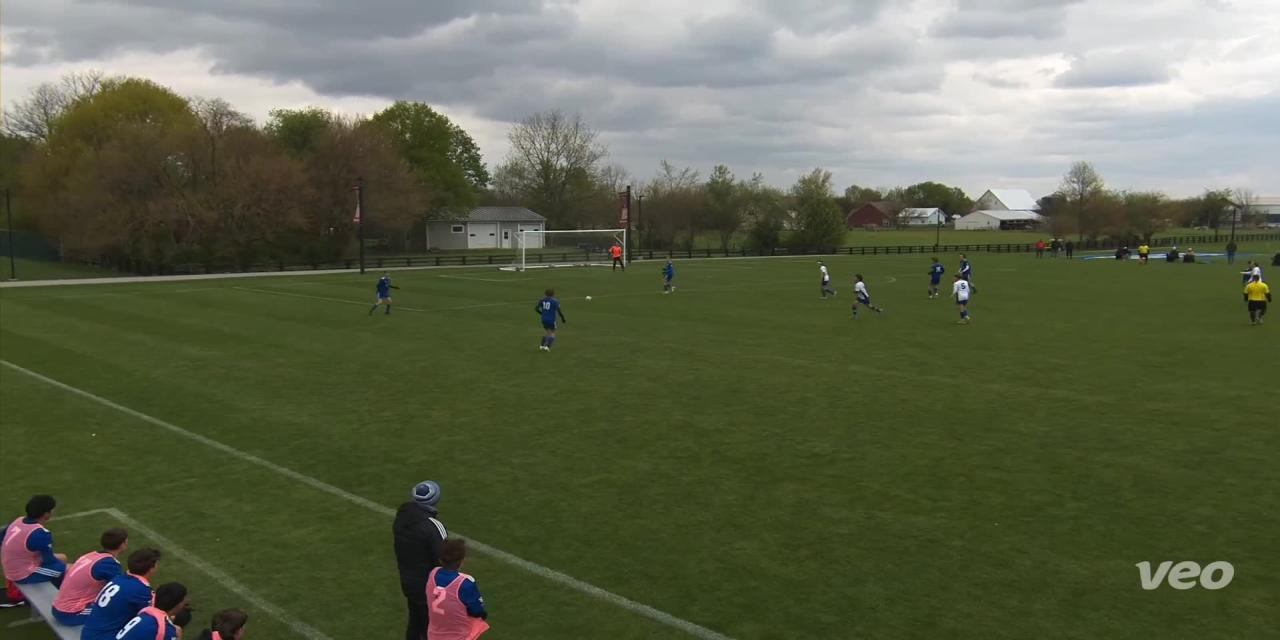goal: (493, 228, 648, 279)
sports ball: (584, 291, 597, 304)
